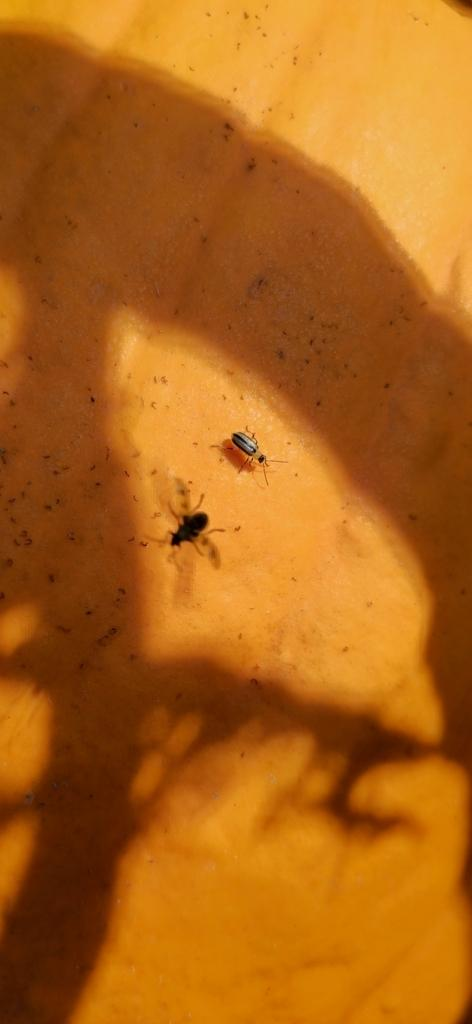potato_beetle: (207, 410, 296, 494)
